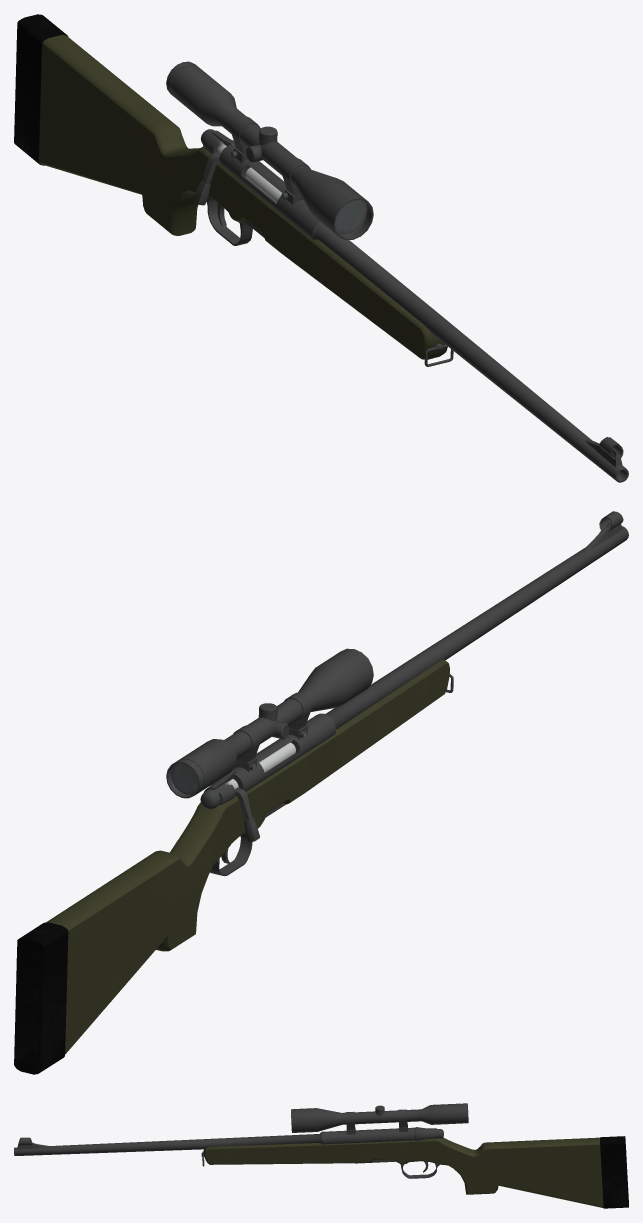
Rendered from sniper.glb.
3 renders of one model, top to bottom at view 1: azimuth 30°, elevation 25°; view 2: azimuth 150°, elevation 25°; view 3: azimuth 270°, elevation 25°, orthographic. The views are drawn at different scales.
Parts seen in each view (by area): view 1: sniper; view 2: sniper; view 3: sniper.
Part boxes in pixels (x1,y1,x2,y2): sniper: (14,14,628,482); sniper: (14,511,628,1074); sniper: (14,1103,628,1208).
Size of the model in its own units: 0.0494 by 0.1842 by 1.
1 material, 1 textured.
